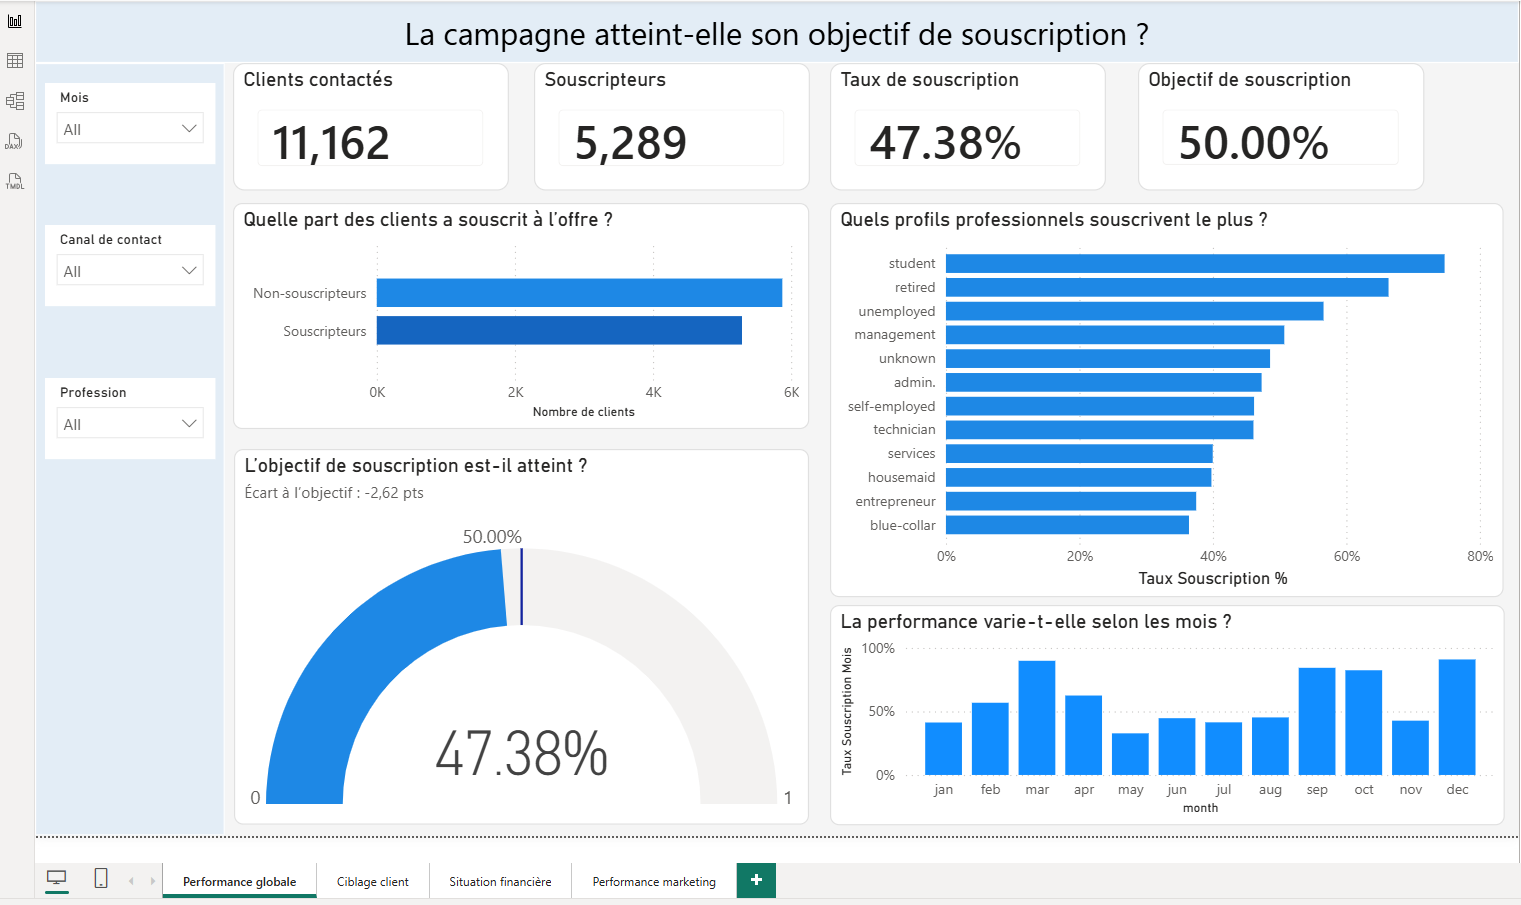

This screenshot's page, from the dashboard's own definition file:
{"tool":"powerbi","page":{"name":"Performance globale","canvas":[1280,720],"ordinal":0},"visuals":[{"type":"cardVisual","title":"Clients contactés","fields":{"Data":["bank.Total Clients Affichage"]},"box":[170.9,53.5,237.9,110.2],"z":0},{"type":"cardVisual","title":"Souscripteurs","fields":{"Data":["bank.Souscripteurs Affichage"]},"box":[430.4,53.5,237.9,110.2],"z":1000},{"type":"cardVisual","title":"Taux de souscription","fields":{"Data":["bank.Taux Souscription"]},"box":[685.8,53.5,237.9,110.2],"z":2000},{"type":"clusteredBarChart","title":"Quelle part des clients a souscrit à l’offre ?","fields":{"Category":["bank.Statut souscription"],"Y":["bank.Total Clients"]},"box":[170.9,174,497.4,194.6],"z":3000},{"type":"shape","title":"Performance globale de la campagne bancaire","box":[0,0,1280,53.5],"z":4000},{"type":"shape","box":[0,53.5,163.7,666.3],"z":5000},{"type":"slicer","title":"MOIS","fields":{"Values":["bank.month"]},"box":[8.2,71.1,147.3,70],"z":6000},{"type":"slicer","fields":{"Values":["bank.contact"]},"box":[8.2,193.6,147.3,70],"z":7000},{"type":"slicer","fields":{"Values":["bank.job"]},"box":[8.2,325.4,147.3,70],"z":8000},{"type":"clusteredBarChart","title":"Quels profils professionnels souscrivent le plus ?","fields":{"Category":["bank.job"],"Y":["bank.Taux Souscription %"]},"box":[685.8,174.2,581.5,340.2],"z":9000},{"type":"cardVisual","title":"Objectif de souscription","fields":{"Data":["bank.Objectif Taux Souscription"]},"box":[951.6,53.5,246.7,109.8],"z":10000},{"type":"gauge","title":"L’objectif de souscription est-il atteint ?","fields":{"Y":["bank.Taux Souscription %"],"TargetValue":["bank.Objectif Taux Souscription"],"MinValue":["bank.Min Jauge"],"MaxValue":["bank.Max Jauge"]},"box":[171.5,386.4,496.2,323.9],"z":11000},{"type":"clusteredColumnChart","title":"La performance varie-t-elle selon les mois ?","fields":{"Category":["bank.month"],"Y":["bank.Taux Souscription Mois"]},"box":[685.8,520.7,582.4,189.6],"z":12000}]}

Visuals, with their boxes on the page's 1280x720 design canvas (x1, y1, x2, y2). These are canvas units, not pixel positions in the 1521x905 screenshot, which may show the page scaled, cropped or inside an application window:
"Clients contactés" cardVisual: (171, 54, 409, 164)
"Souscripteurs" cardVisual: (430, 54, 668, 164)
"Taux de souscription" cardVisual: (686, 54, 924, 164)
"Quelle part des clients a souscrit à l’offre ?" clusteredBarChart: (171, 174, 668, 369)
"Performance globale de la campagne bancaire" shape: (0, 0, 1280, 54)
shape: (0, 54, 164, 720)
"MOIS" slicer: (8, 71, 156, 141)
slicer - bank.contact: (8, 194, 156, 264)
slicer - bank.job: (8, 325, 156, 395)
"Quels profils professionnels souscrivent le plus ?" clusteredBarChart: (686, 174, 1267, 514)
"Objectif de souscription" cardVisual: (952, 54, 1198, 163)
"L’objectif de souscription est-il atteint ?" gauge: (172, 386, 668, 710)
"La performance varie-t-elle selon les mois ?" clusteredColumnChart: (686, 521, 1268, 710)
